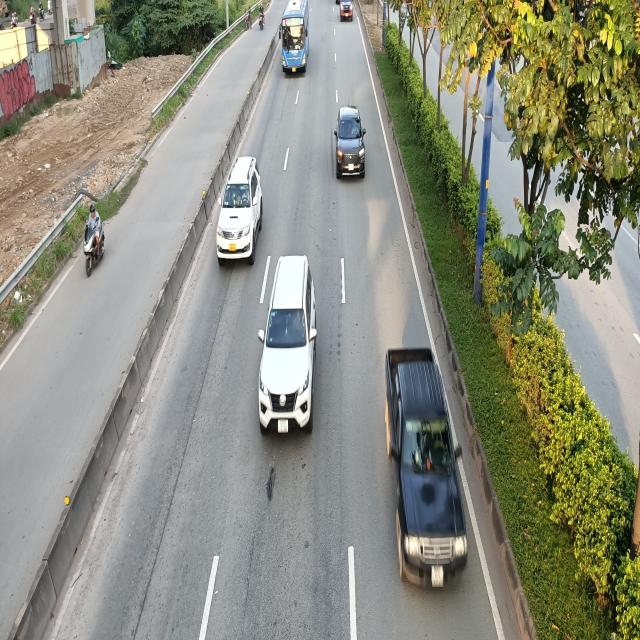car: (388, 346, 474, 589), (258, 258, 318, 438), (215, 157, 261, 265), (333, 108, 368, 178)
coach: (279, 1, 310, 76)
